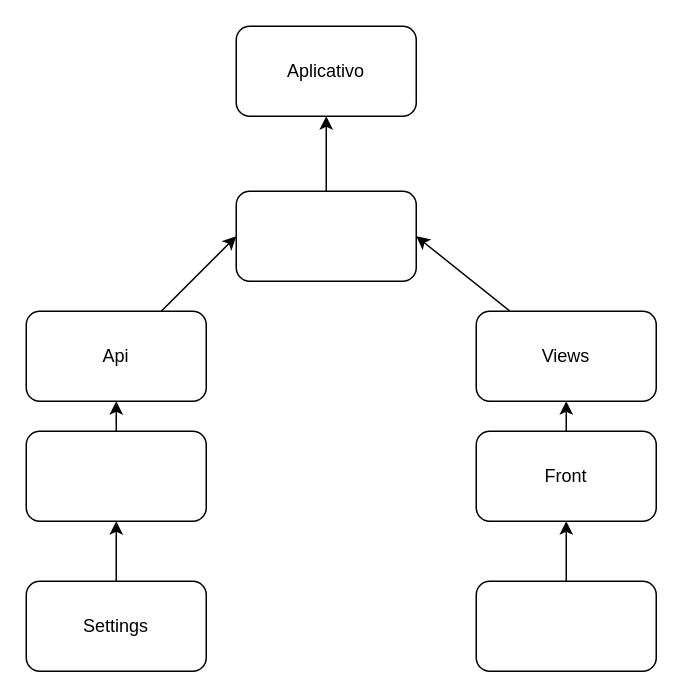
Image size: 683x698. Some labels were removed from this diagram. Here are the shapes that lost their labels. From the top down, the box of each, then its label:
(235, 190, 416, 281): Src
(25, 430, 206, 521): Model
(475, 580, 656, 671): Images
